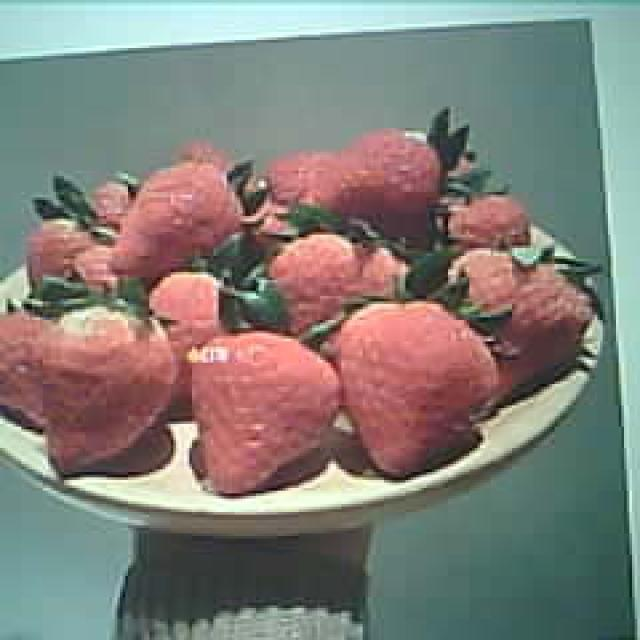strawberry: (340, 304, 498, 480), (192, 332, 342, 496), (42, 302, 174, 476), (112, 163, 241, 274)
